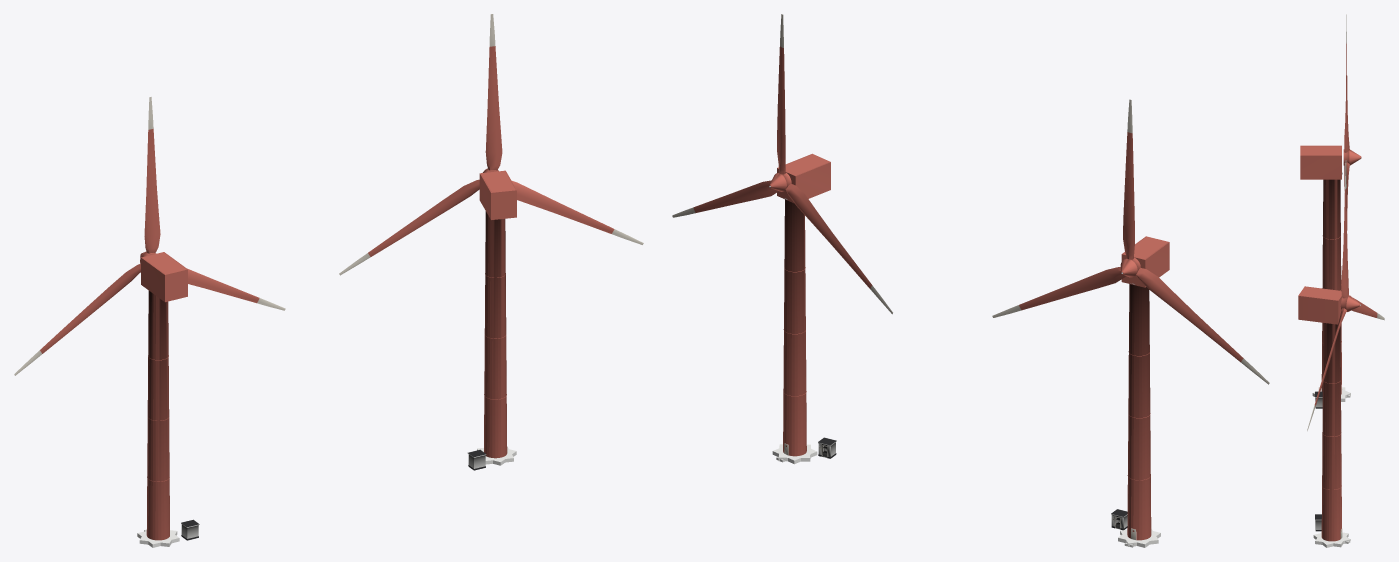
File: windfarm.glb
3 renders of one model, left to right at view 1: azimuth 30°, elevation 25°; view 2: azimuth 150°, elevation 25°; view 3: azimuth 270°, elevation 25°, orthographic. The views are drawn at different scales.
Visible parts, largest first — view 1: PART, N_spin_rotor_b, N_spin_rotor_a; view 2: PART, N_spin_rotor_a, N_spin_rotor_b; view 3: PART, N_spin_rotor_b, N_spin_rotor_a.
Boxes of the visible parts, x1,y1,x2,y2 form: PART: (137, 170, 516, 547); N_spin_rotor_b: (339, 14, 643, 275); N_spin_rotor_a: (14, 97, 285, 375); PART: (772, 153, 1169, 547); N_spin_rotor_a: (992, 99, 1269, 384); N_spin_rotor_b: (672, 14, 892, 314); PART: (1298, 145, 1350, 547); N_spin_rotor_b: (1307, 160, 1384, 430); N_spin_rotor_a: (1343, 14, 1361, 230).
Bounding box in the file's own units: 126 × 86.36 × 17.75.
